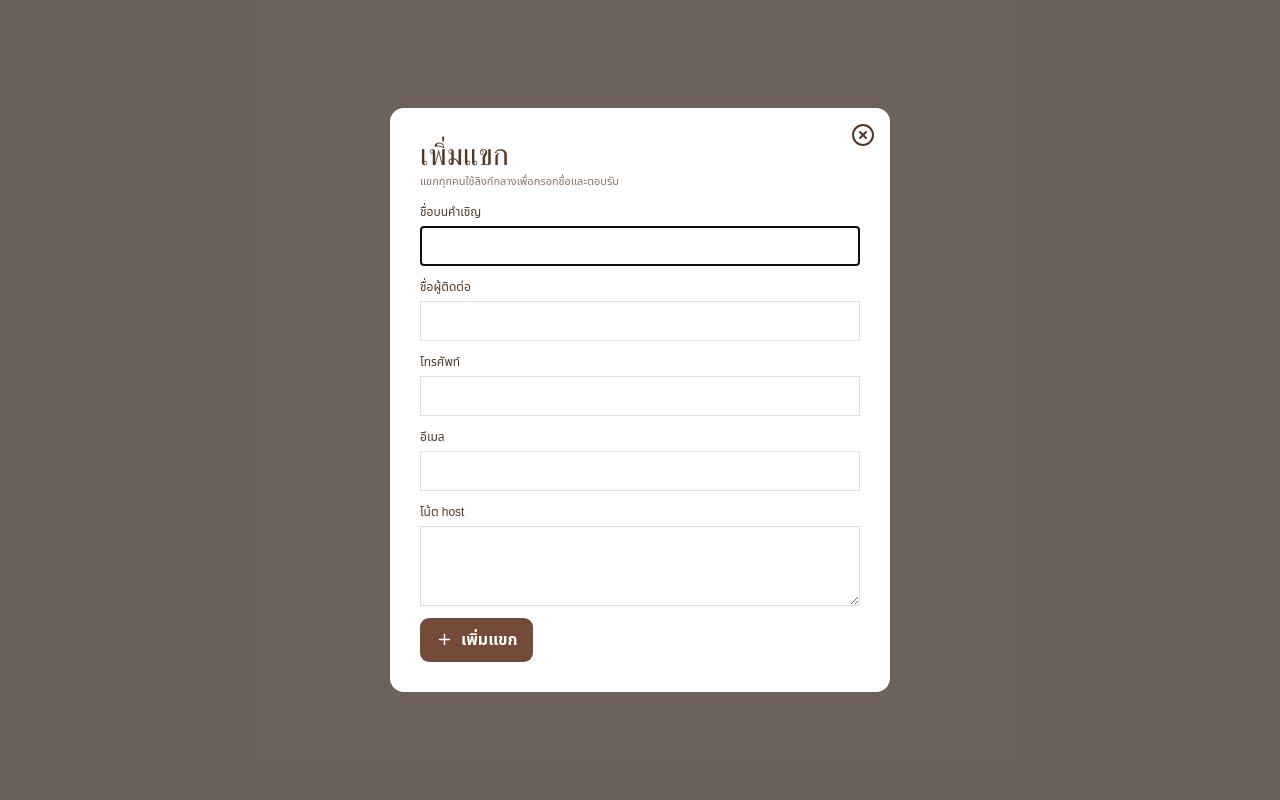
Test: GuestCreateModal › keeps entered values visible when the server rejects the guest
Type "ครอบครัวซ้ำ" into the field labelled "ชื่อบนคำเชิญ". click: [640, 246]
box: [420,226,860,266]
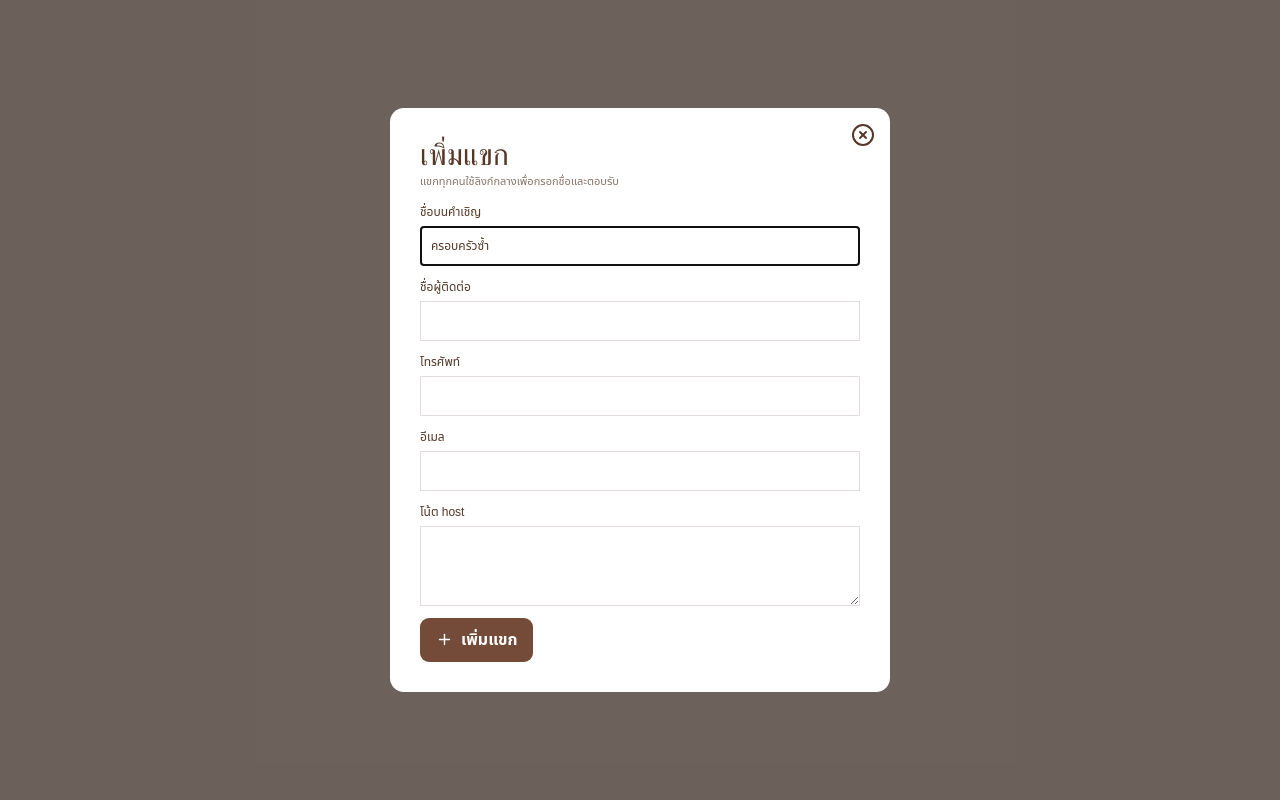
Type "คุณซ้ำ" into the field labelled "ชื่อผู้ติดต่อ". click: [640, 321]
box: [420,301,860,341]
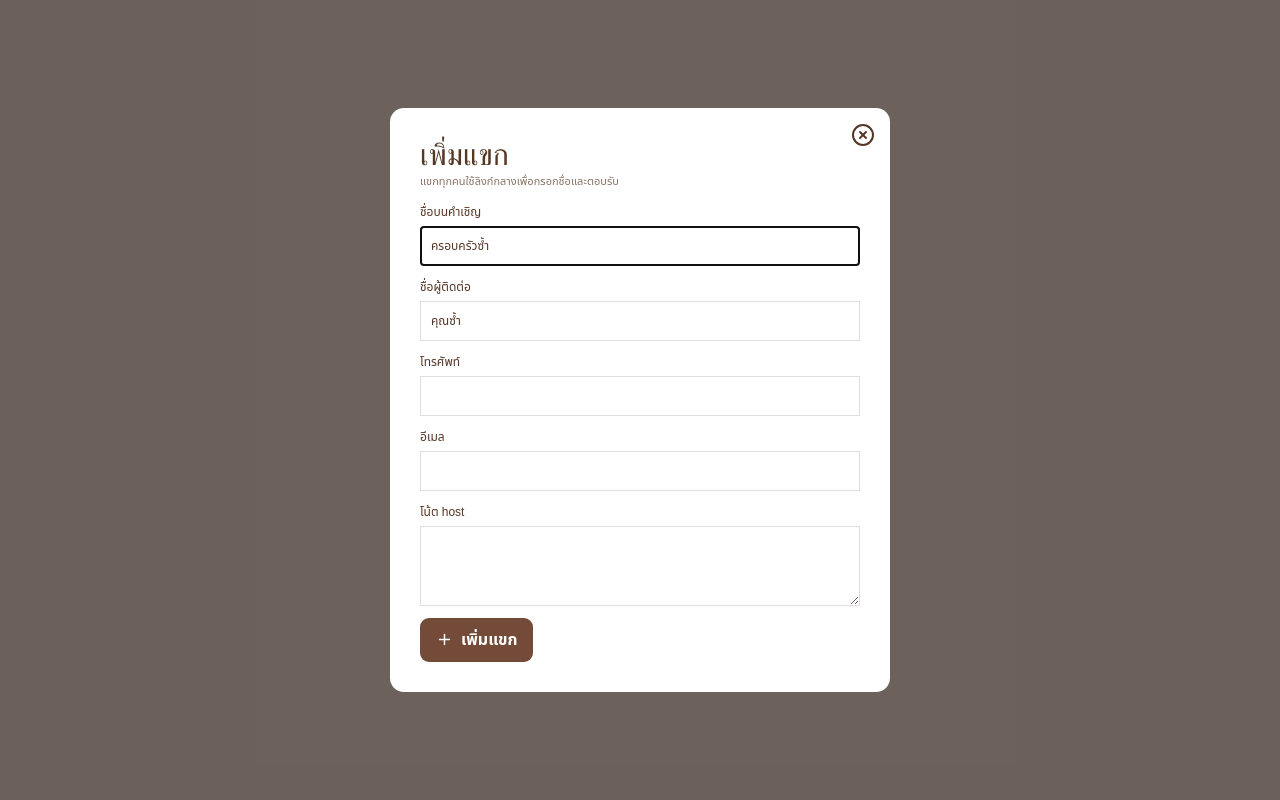
Click the button "เพิ่มแขก". click: [477, 640]
box: [420,618,533,662]
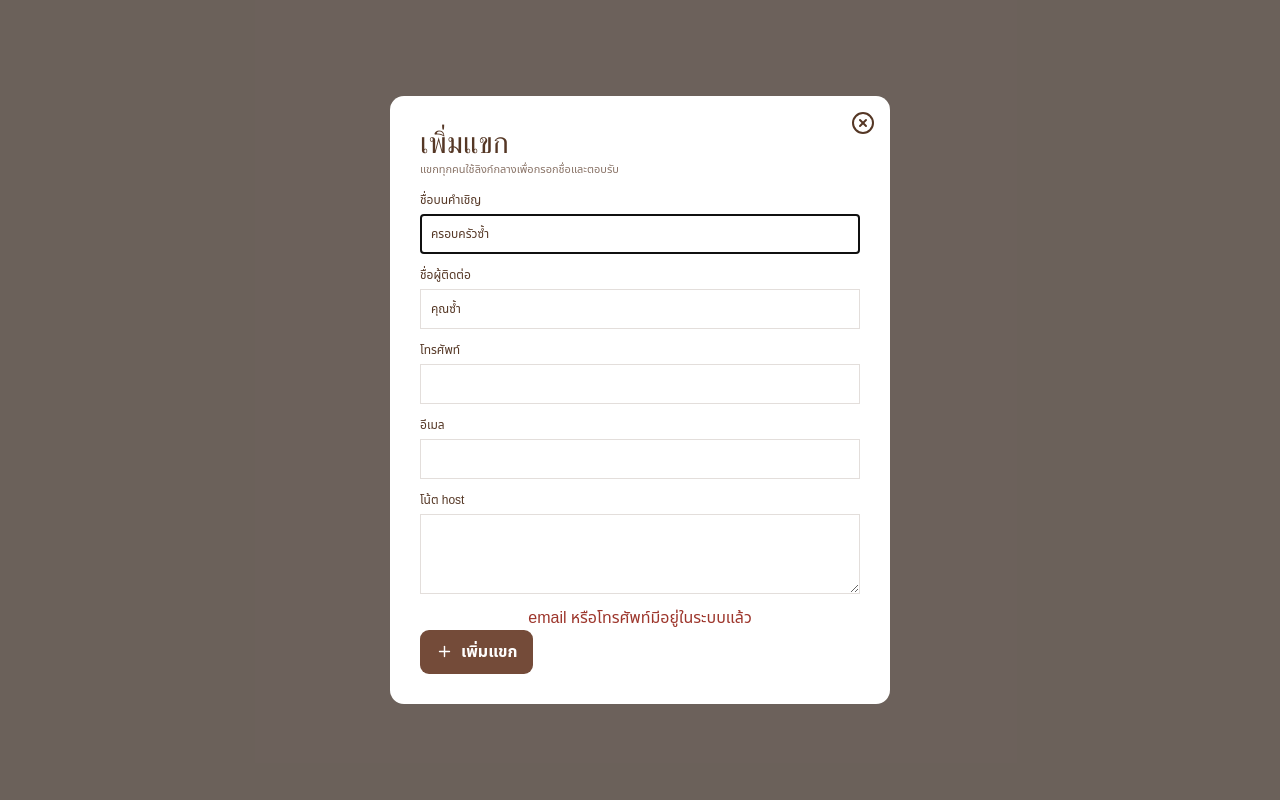
expect the message reads "email หรือโทรศัพท์มีอยู่ในระบบแล้ว": met, box [528,606,752,630]
